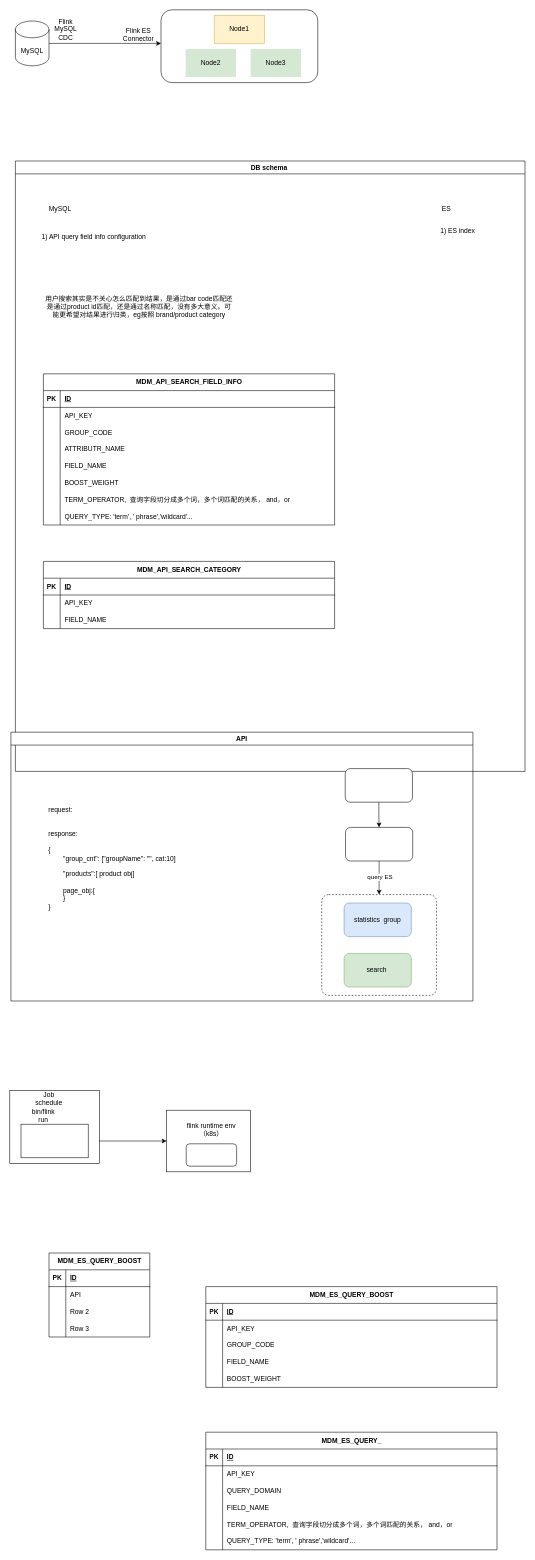
This 535x1560 diagram has some shape labels left out. Each missing label, with the centre of its shape:
"API query" belongs at (378,785).
"Flink Client remote (restful)/yarn/k8s" belongs at (54,1141).
"get query weight/group/field" belongs at (379,844).
"web submit Embed Execute" belongs at (211,1154).
